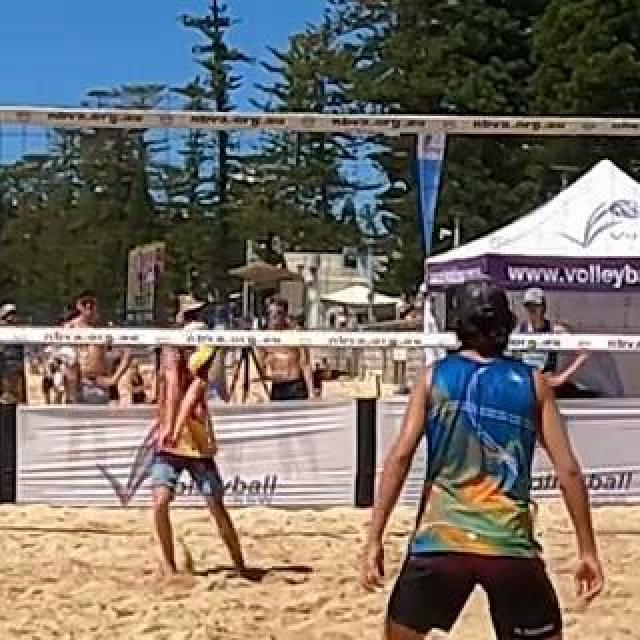volleyball: (188, 347, 224, 381)
